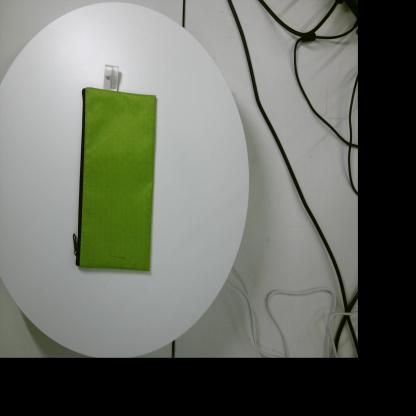Stationery: (73, 64, 156, 271)
